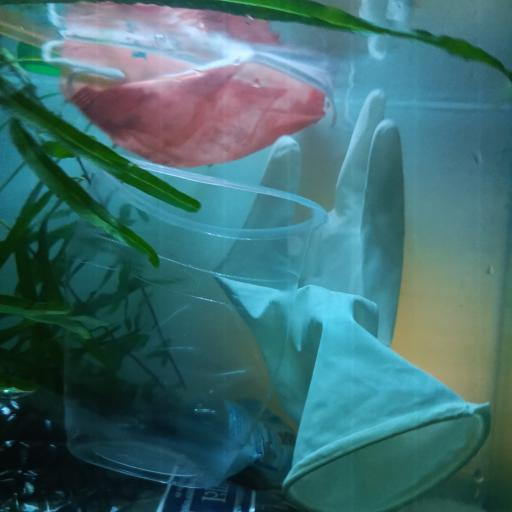bottle_cap: (18, 41, 62, 77)
glove: (214, 85, 493, 509)
mask: (40, 36, 336, 165)
plastic_bottle: (0, 378, 297, 512), (160, 396, 507, 501)
plastic_cup: (61, 150, 327, 483)
